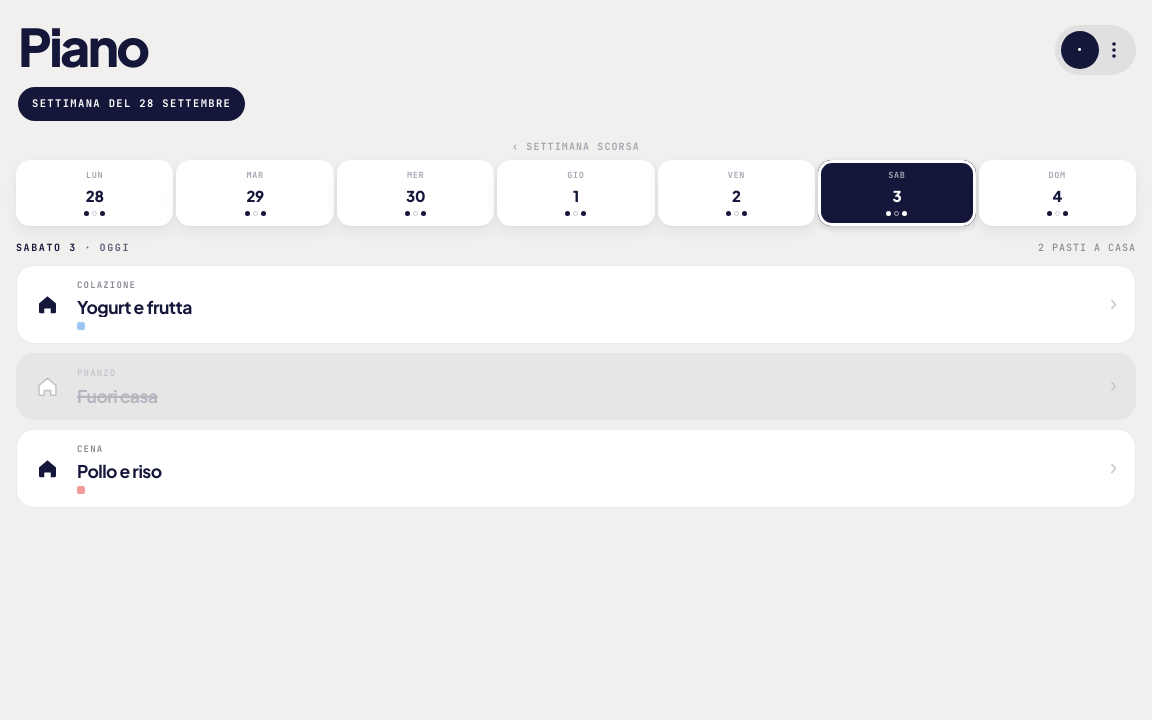
Test: Settimana (piano alimentare) › zona casa: un tap solo spegne il pasto, chiamando applicaStato via aggiornaSlot con fonte checkin
The width and height of the screenshot is (1152, 720).
Expected: the text "Yogurt e frutta" is shown, [77, 297, 192, 317]
Click the button named "Colazione: a casa, tocca per segnare fuori". click: (47, 304)
box: [17, 266, 77, 343]
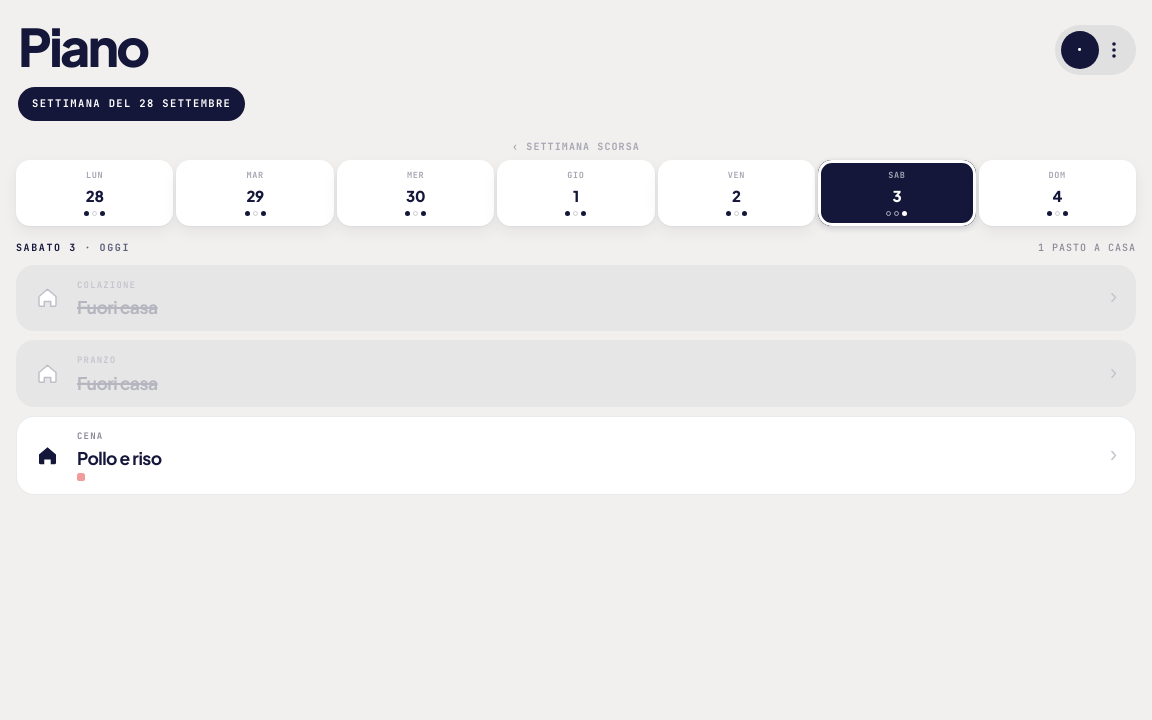
Now the button named "Colazione: fuori casa, tocca per segnare a casa" is shown, box [17, 266, 77, 330]
